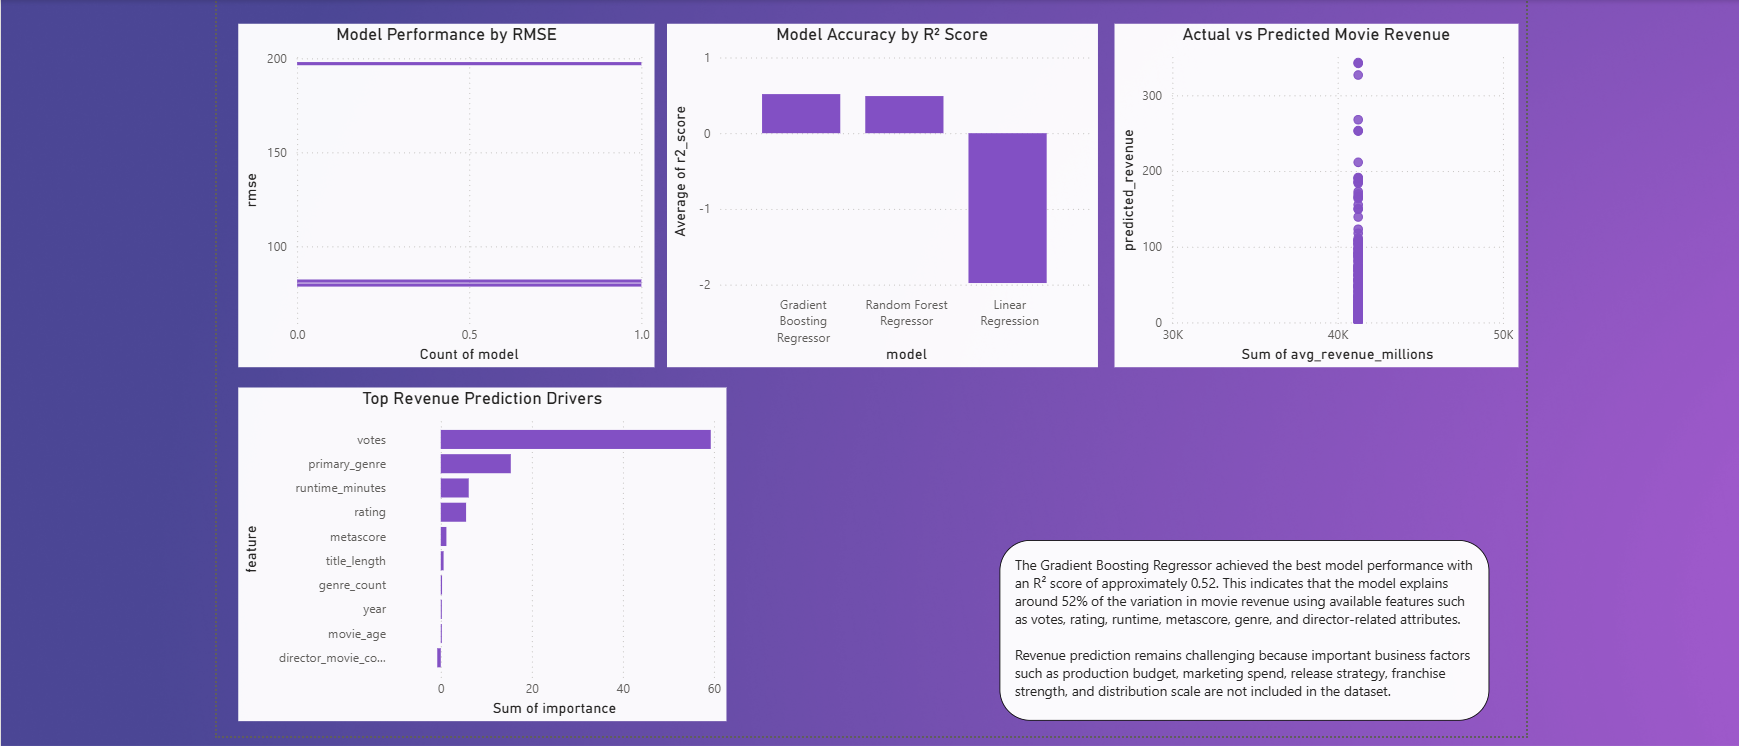

The page's visual inventory and layout, read from the dashboard file:
{"tool":"powerbi","page":{"name":"ML Revenue Prediction","canvas":[1280,720],"ordinal":3},"visuals":[{"type":"clusteredBarChart","title":"Model Performance by RMSE","fields":{"Y":["Count(actual_vs_predicted_revenue.model)"],"Category":["model_performance.rmse"]},"box":[20.6,23.3,407.5,336.2],"z":0},{"type":"columnChart","title":"Model Accuracy by R² Score","fields":{"Y":["Avg(model_performance.r2_score)"],"Category":["model_performance.model"]},"box":[440.5,23.3,421.3,336.2],"z":1000},{"type":"scatterChart","title":"Actual vs Predicted Movie Revenue","fields":{"X":["Sum(director_summary.avg_revenue_millions)"],"Y":["actual_vs_predicted_revenue.predicted_revenue"]},"box":[878.2,23.3,395.2,336.2],"z":2000},{"type":"barChart","title":"Top Revenue Prediction Drivers","fields":{"Category":["feature_importance.feature"],"Y":["Sum(feature_importance.importance)"]},"box":[20.6,378.7,477.5,326.6],"z":3000},{"type":"textbox","box":[765.7,528.3,478.9,177],"z":4000}]}

Visuals, with their boxes in screenshot pixels (x1, y1, x2, y2):
"Model Performance by RMSE" clusteredBarChart: 234:19:651:363
"Model Accuracy by R² Score" columnChart: 664:19:1095:363
"Actual vs Predicted Movie Revenue" scatterChart: 1112:19:1516:363
"Top Revenue Prediction Drivers" barChart: 234:383:723:717
textbox: 997:536:1487:717
